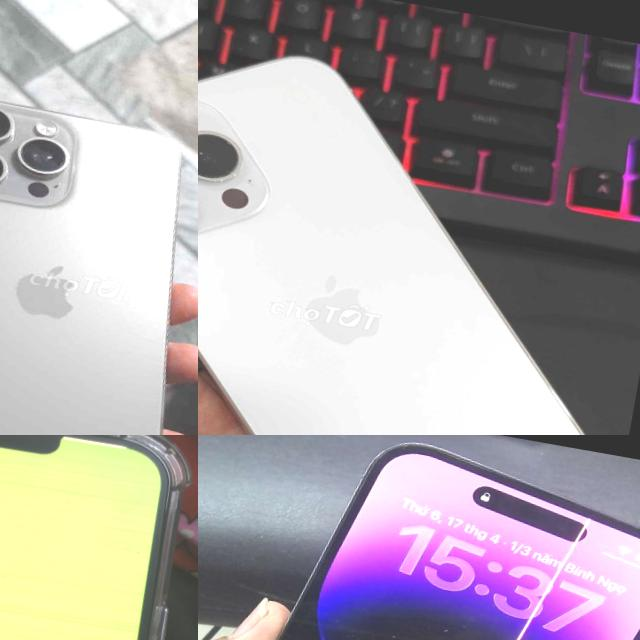gen_12_13: (0, 435, 198, 640)
gen_14: (198, 18, 640, 435), (198, 435, 640, 640)
gen_15: (0, 71, 198, 435)
